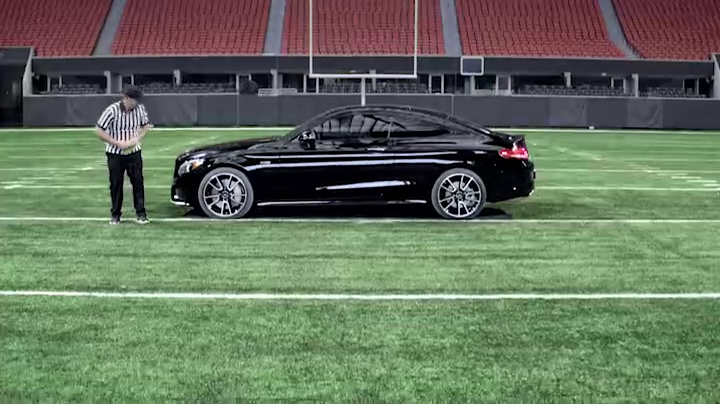amg: (173, 105, 542, 226)
